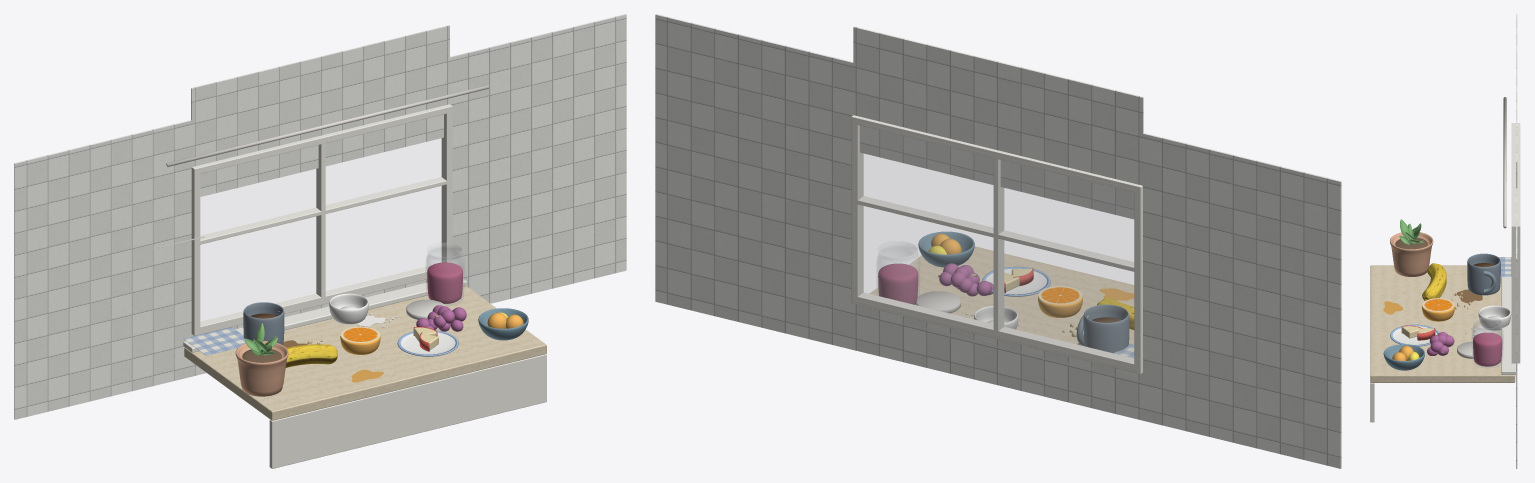
File: set.glb
3 renders of one model, left to right at view 1: azimuth 30°, elevation 25°; view 2: azimuth 150°, elevation 25°; view 3: azimuth 270°, elevation 25°, orthographic. The views are drawn at different scales.
Parts seen in each view (by area): view 1: wall_l, wall_r, window_glass, wall_t, counter, apron, frame_b, frame_t, transom, jar, pot, frame_r (+11 smaller); view 2: wall_l, wall_r, window_glass, wall_t, wall_b, counter, frame_b, transom, frame_t, jar, frame_r, mug (+6 smaller); view 3: counter, jar, pot, frame_r, mug, sill, jam, frame_t, sugar_bowl, bowl, banana, wall_r (+13 smaller).
Boxes of the visible parts, bbox=[...] form: wall_l: bbox=[14, 120, 191, 419]; wall_r: bbox=[450, 14, 626, 303]; window_glass: bbox=[200, 138, 441, 321]; wall_t: bbox=[191, 25, 449, 196]; counter: bbox=[184, 286, 546, 420]; apron: bbox=[269, 354, 546, 468]; frame_b: bbox=[191, 265, 430, 335]; frame_t: bbox=[192, 105, 452, 174]; transom: bbox=[198, 177, 448, 244]; jar: bbox=[425, 243, 464, 305]; pot: bbox=[235, 341, 288, 396]; frame_r: bbox=[441, 104, 452, 262]; wall_l: bbox=[1143, 133, 1341, 468]; wall_r: bbox=[655, 14, 853, 349]; window_glass: bbox=[855, 122, 1136, 368]; wall_t: bbox=[853, 26, 1143, 219]; wall_b: bbox=[853, 304, 1142, 420]; counter: bbox=[869, 246, 1134, 344]; frame_b: bbox=[851, 292, 1142, 374]; transom: bbox=[855, 196, 1134, 271]; frame_t: bbox=[851, 116, 1142, 192]; jar: bbox=[876, 242, 919, 304]; frame_r: bbox=[851, 115, 863, 303]; mug: bbox=[1083, 304, 1129, 353]; counter: bbox=[1370, 265, 1515, 382]; jar: bbox=[1471, 316, 1503, 368]; pot: bbox=[1390, 232, 1433, 276]; frame_r: bbox=[1511, 224, 1520, 362]; mug: bbox=[1467, 253, 1500, 295]; sill: bbox=[1501, 276, 1515, 374]; jam: bbox=[1473, 332, 1502, 366]; frame_t: bbox=[1511, 123, 1520, 230]; sugar_bowl: bbox=[1478, 305, 1511, 330]; bowl: bbox=[1383, 344, 1424, 370]; banana: bbox=[1422, 263, 1446, 300]; wall_r: bbox=[1516, 188, 1517, 468].
Bounding box in the file's own units: 800 × 392 × 208.
31 materials, 6 textured.
